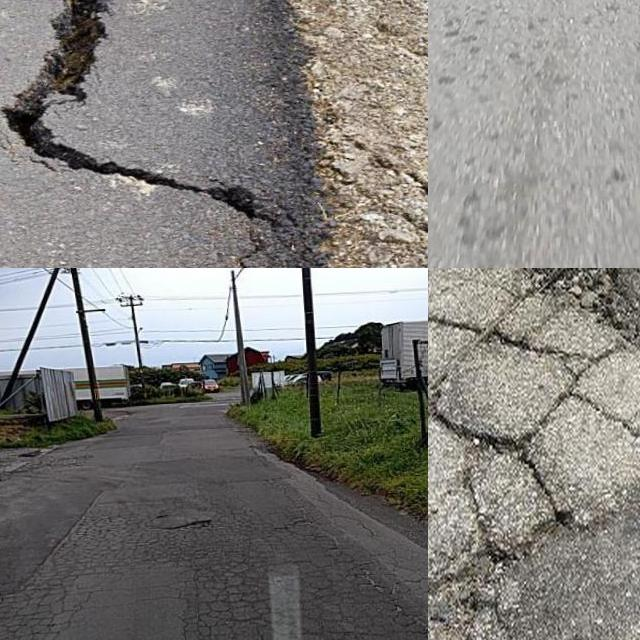Lubang: (508, 268, 640, 341)
Pinggir: (19, 0, 339, 241)
Retak Buaya: (0, 512, 428, 640)
